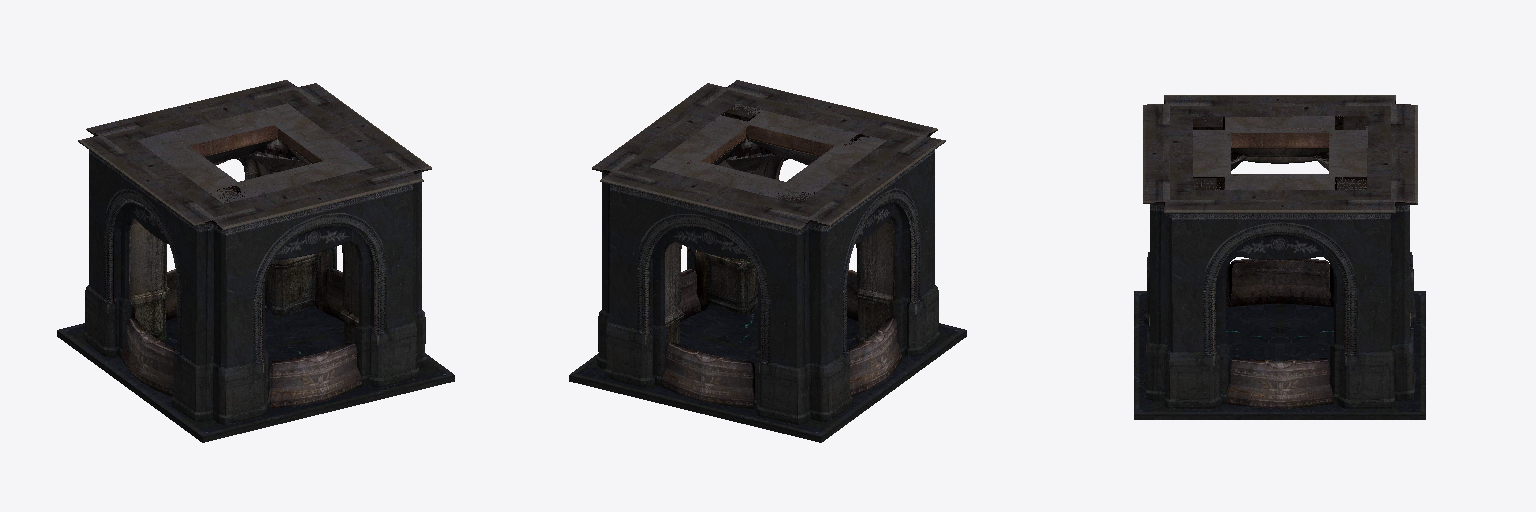
3 renders of one model, left to right at view 1: azimuth 30°, elevation 25°; view 2: azimuth 150°, elevation 25°; view 3: azimuth 270°, elevation 25°, orthographic.
Visible parts, largest first — view 1: Fireplace; view 2: Fireplace; view 3: Fireplace.
Boxes of the visible parts, x1,y1,x2,y2 form: Fireplace: [57, 80, 454, 442]; Fireplace: [569, 80, 966, 442]; Fireplace: [1134, 95, 1425, 419].
Size of the model in its own units: 216 by 168 by 216.
1 materials, 1 textured.